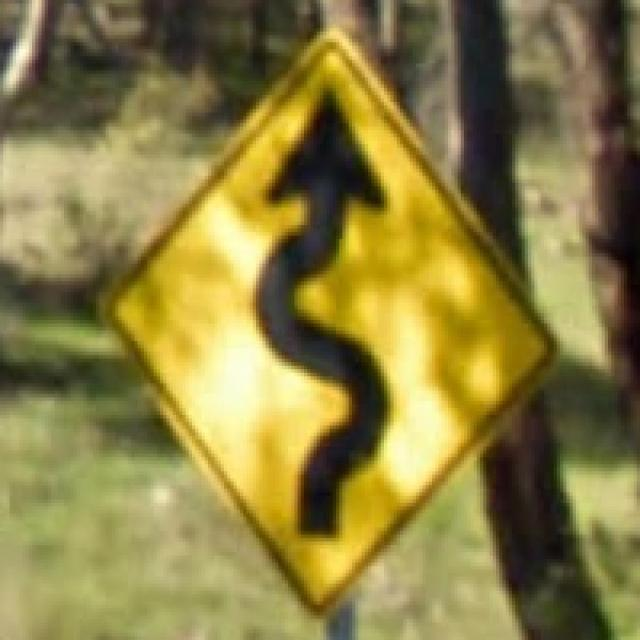Banyak Tikungan Pertama Kanan: (89, 14, 556, 619)
